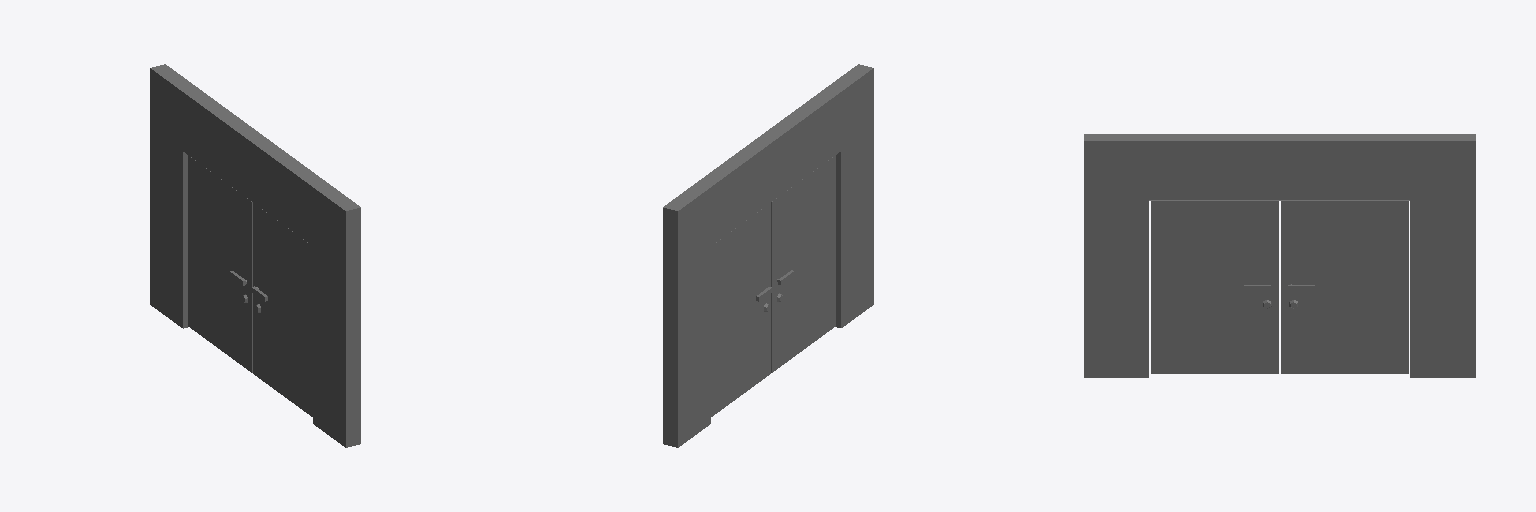
Rendered from kabedoor.obj.
3 renders of one model, left to right at view 1: azimuth 30°, elevation 25°; view 2: azimuth 150°, elevation 25°; view 3: azimuth 270°, elevation 25°, orthographic.
Visible parts, largest first — view 1: kabedoor:name9; view 2: kabedoor:name9; view 3: kabedoor:name9.
Boxes of the visible parts, x1=… form: kabedoor:name9: x1=150, y1=64, x2=360, y2=447; kabedoor:name9: x1=663, y1=64, x2=873, y2=447; kabedoor:name9: x1=1084, y1=134, x2=1475, y2=377.
Bounding box in the file's own units: 0.2824 × 3.62 × 5.42.